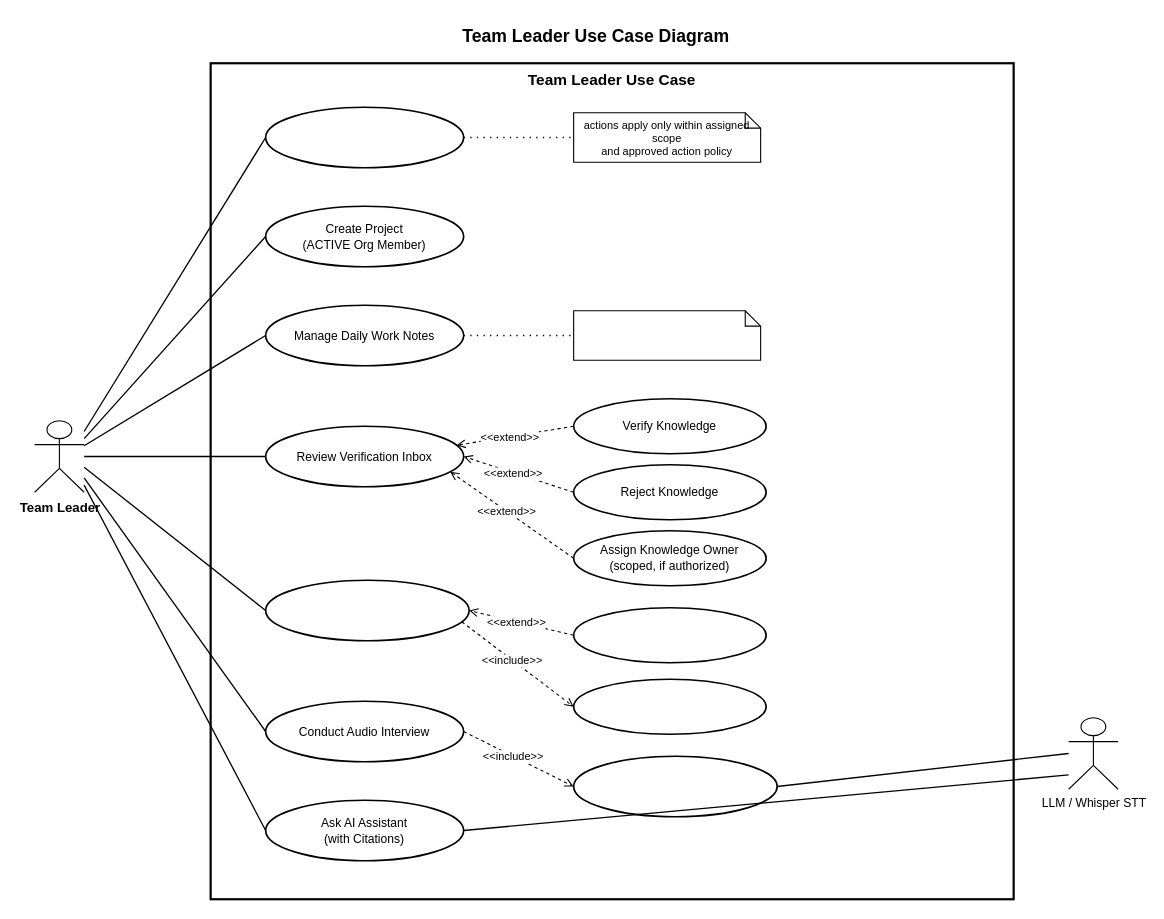
Some shapes in this 1164 by 919 pixel diagram are drawn without their labels. The box of each missing label's shape, as (x1, y1, x2, y2) in pixels:
Audio STT & Knowledge Extraction: (572, 755, 777, 817)
create, view, edit, confirm: (573, 310, 761, 360)
Generate Gap Analysis: (572, 678, 766, 735)
Manage Assigned Project/Team Workspace: (264, 106, 464, 168)
Manage Handover Workflow: (264, 579, 469, 641)
Sign-off Handover Item (authorized scope): (572, 606, 766, 663)
